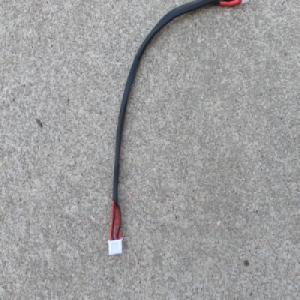Wire: (106, 0, 248, 260)
